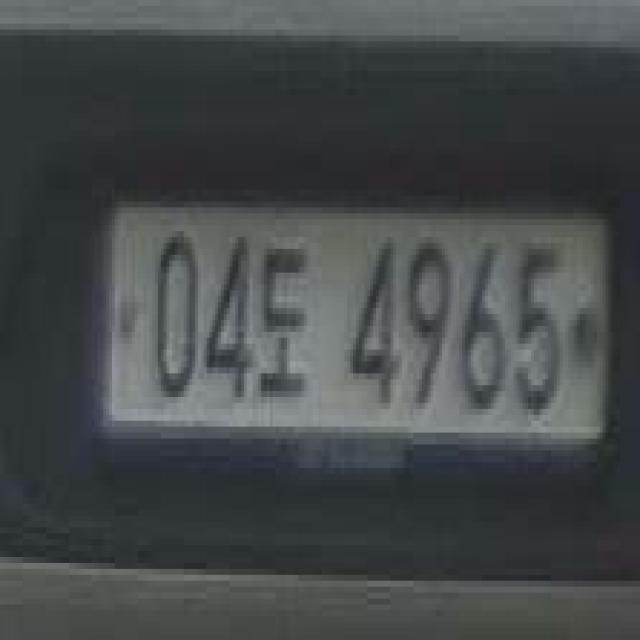illegal_plate: (110, 180, 616, 480)
